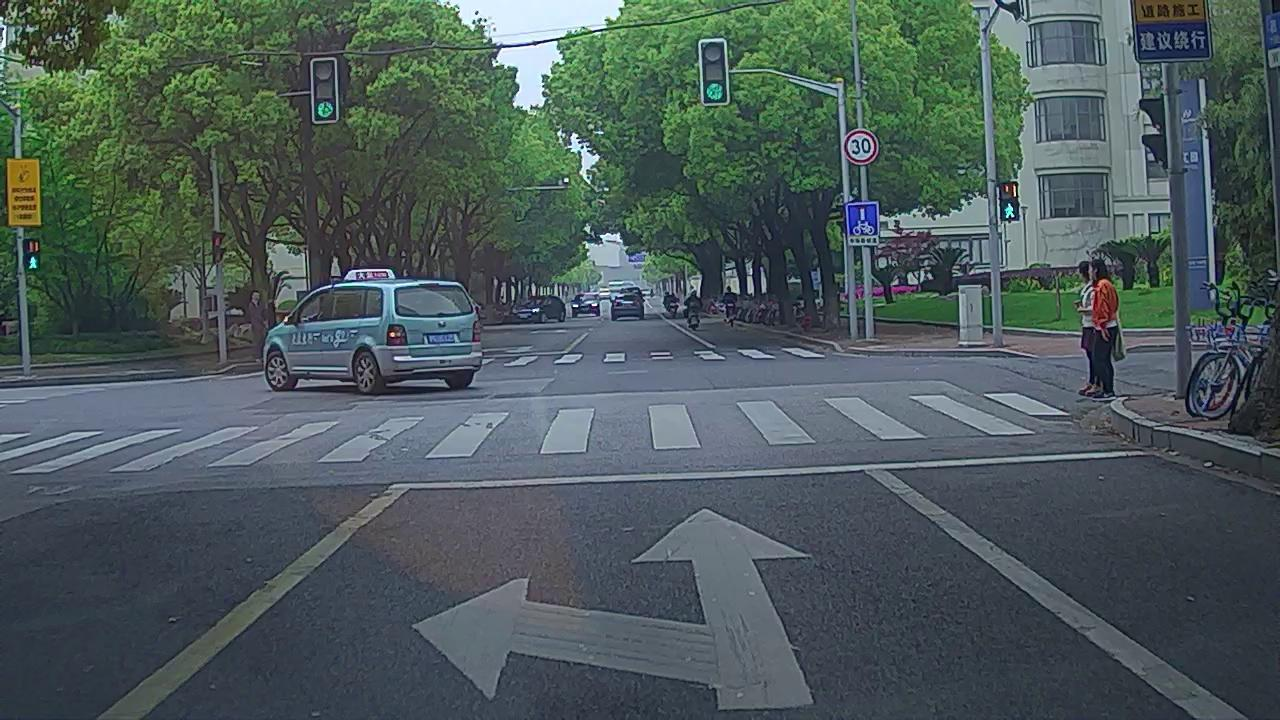traffic_light: (699, 42, 727, 103), (313, 59, 338, 120)
